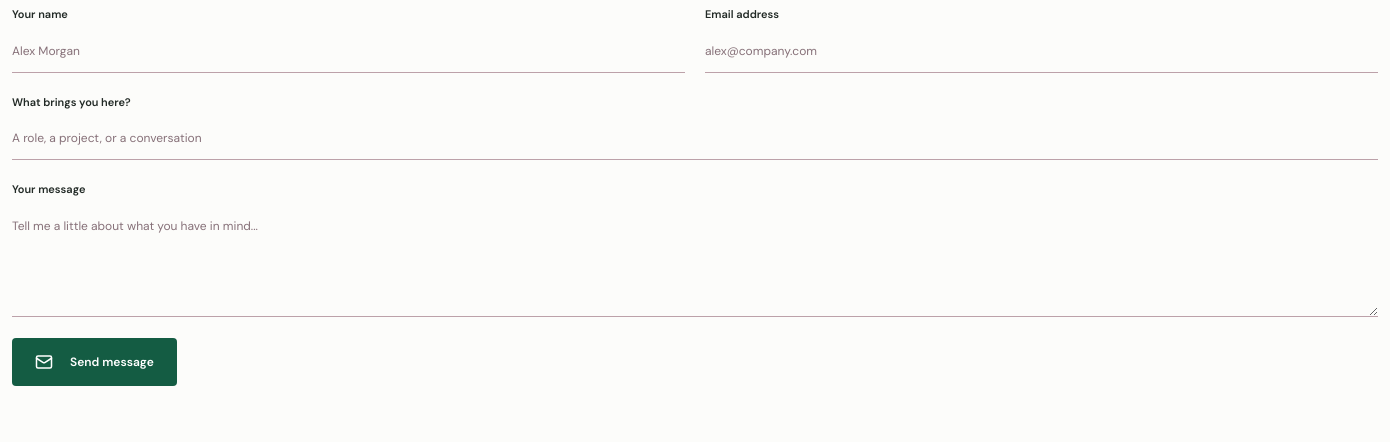
Test case: preserves entered details if an enabled submission fails
Step 1. Type "An opportunity worth discussing." into the text box named "message" → (695, 262), box [12,206,1378,316]
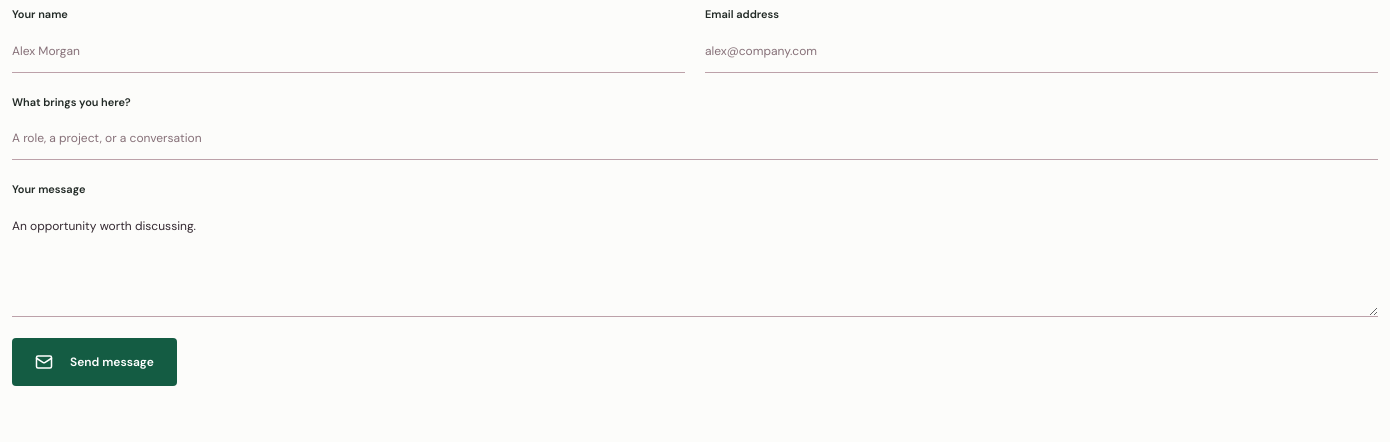
Step 2. Submit the form
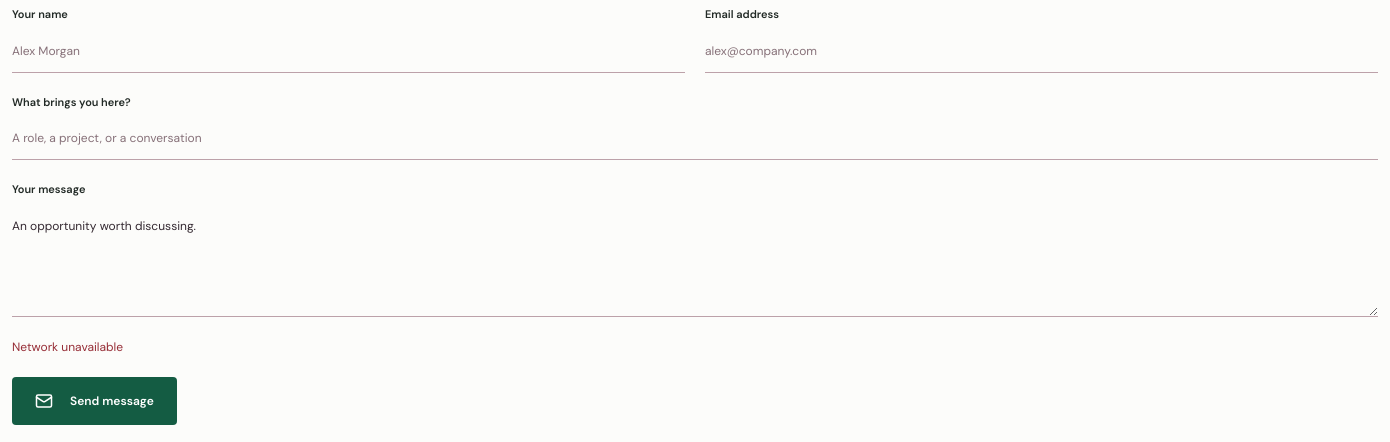
Check: the message "Network unavailable" is shown, box [12,338,123,354]
